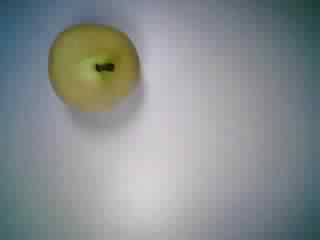pear: (38, 17, 150, 120)
